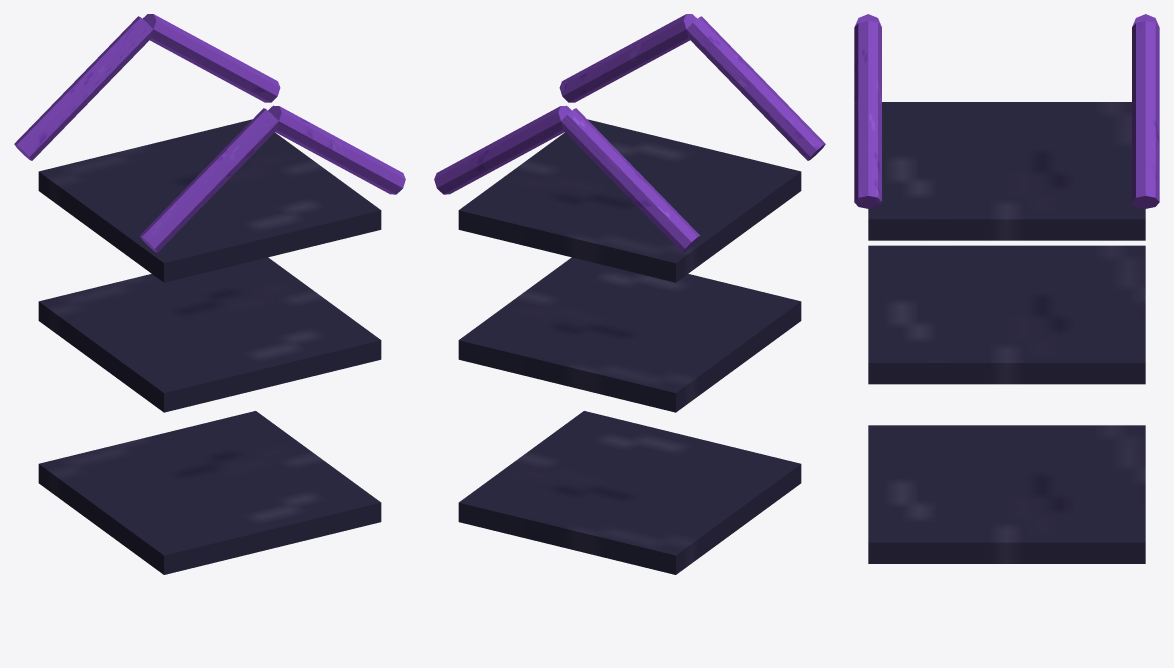
The model's file is yokai_watchtower.obj.
The picture shows the model from 3 angles, left to right: view 1: azimuth 30°, elevation 25°; view 2: azimuth 150°, elevation 25°; view 3: azimuth 270°, elevation 25°; orthographic projection. The views are drawn at different scales.
Size of the model in its own units: 8.42 by 16.28 by 7.7.
Materials: 1 (1 with a texture image).
